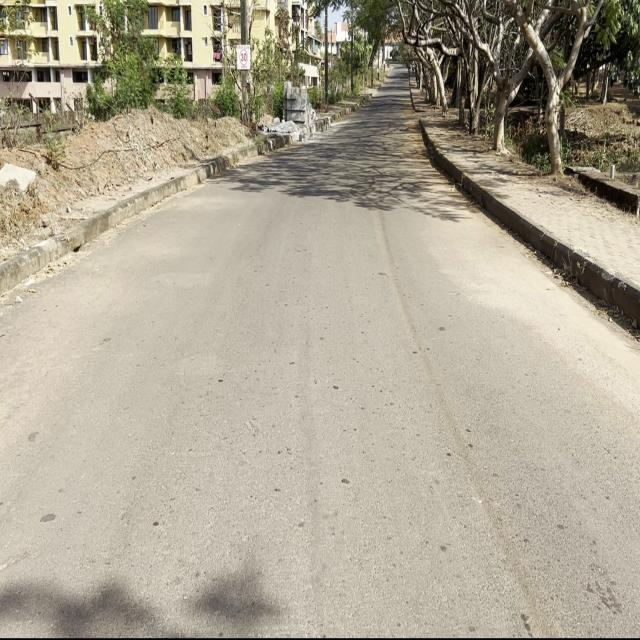Road: (0, 69, 639, 638)
